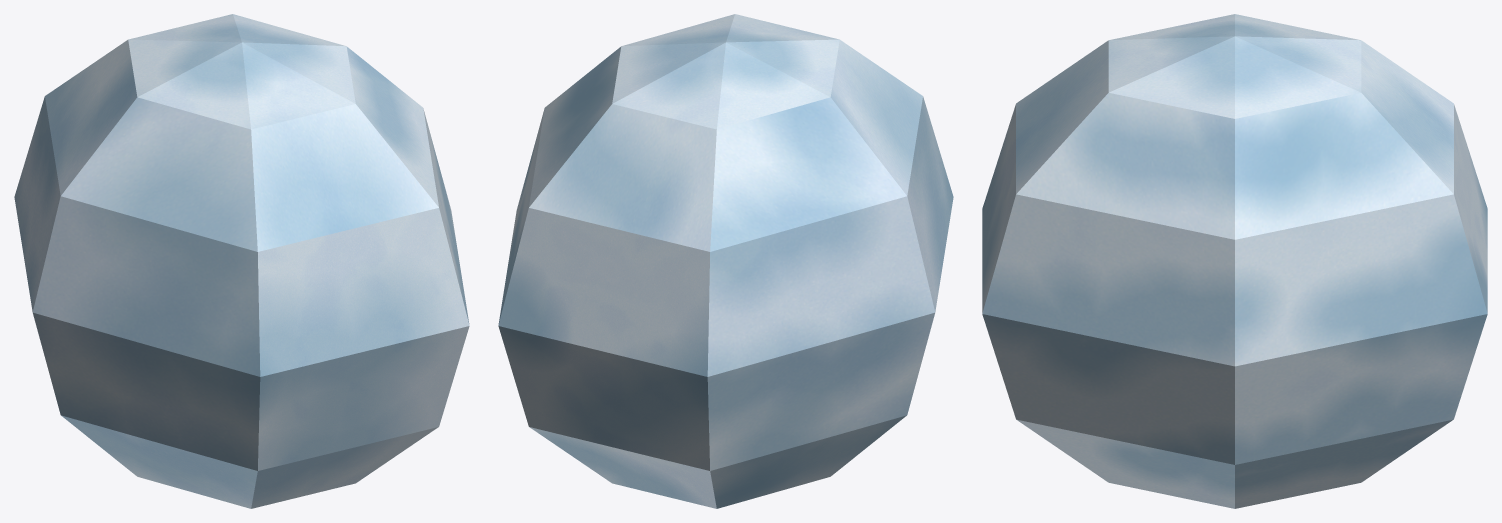
The model's file is snowball.glb.
3 views of the same model, side by side, from view 1: azimuth 30°, elevation 25°; view 2: azimuth 150°, elevation 25°; view 3: azimuth 270°, elevation 25° (orthographic). The views are drawn at different scales.
Visible parts, largest first — view 1: Snow Ball; view 2: Snow Ball; view 3: Snow Ball.
Part boxes in pixels (x1,y1,x2,y2): Snow Ball: (14, 14, 469, 508); Snow Ball: (498, 14, 953, 508); Snow Ball: (982, 14, 1487, 508).
Bounding box in the file's own units: 2.96 × 2.96 × 3.01.
Materials: 1 (1 with a texture image).
